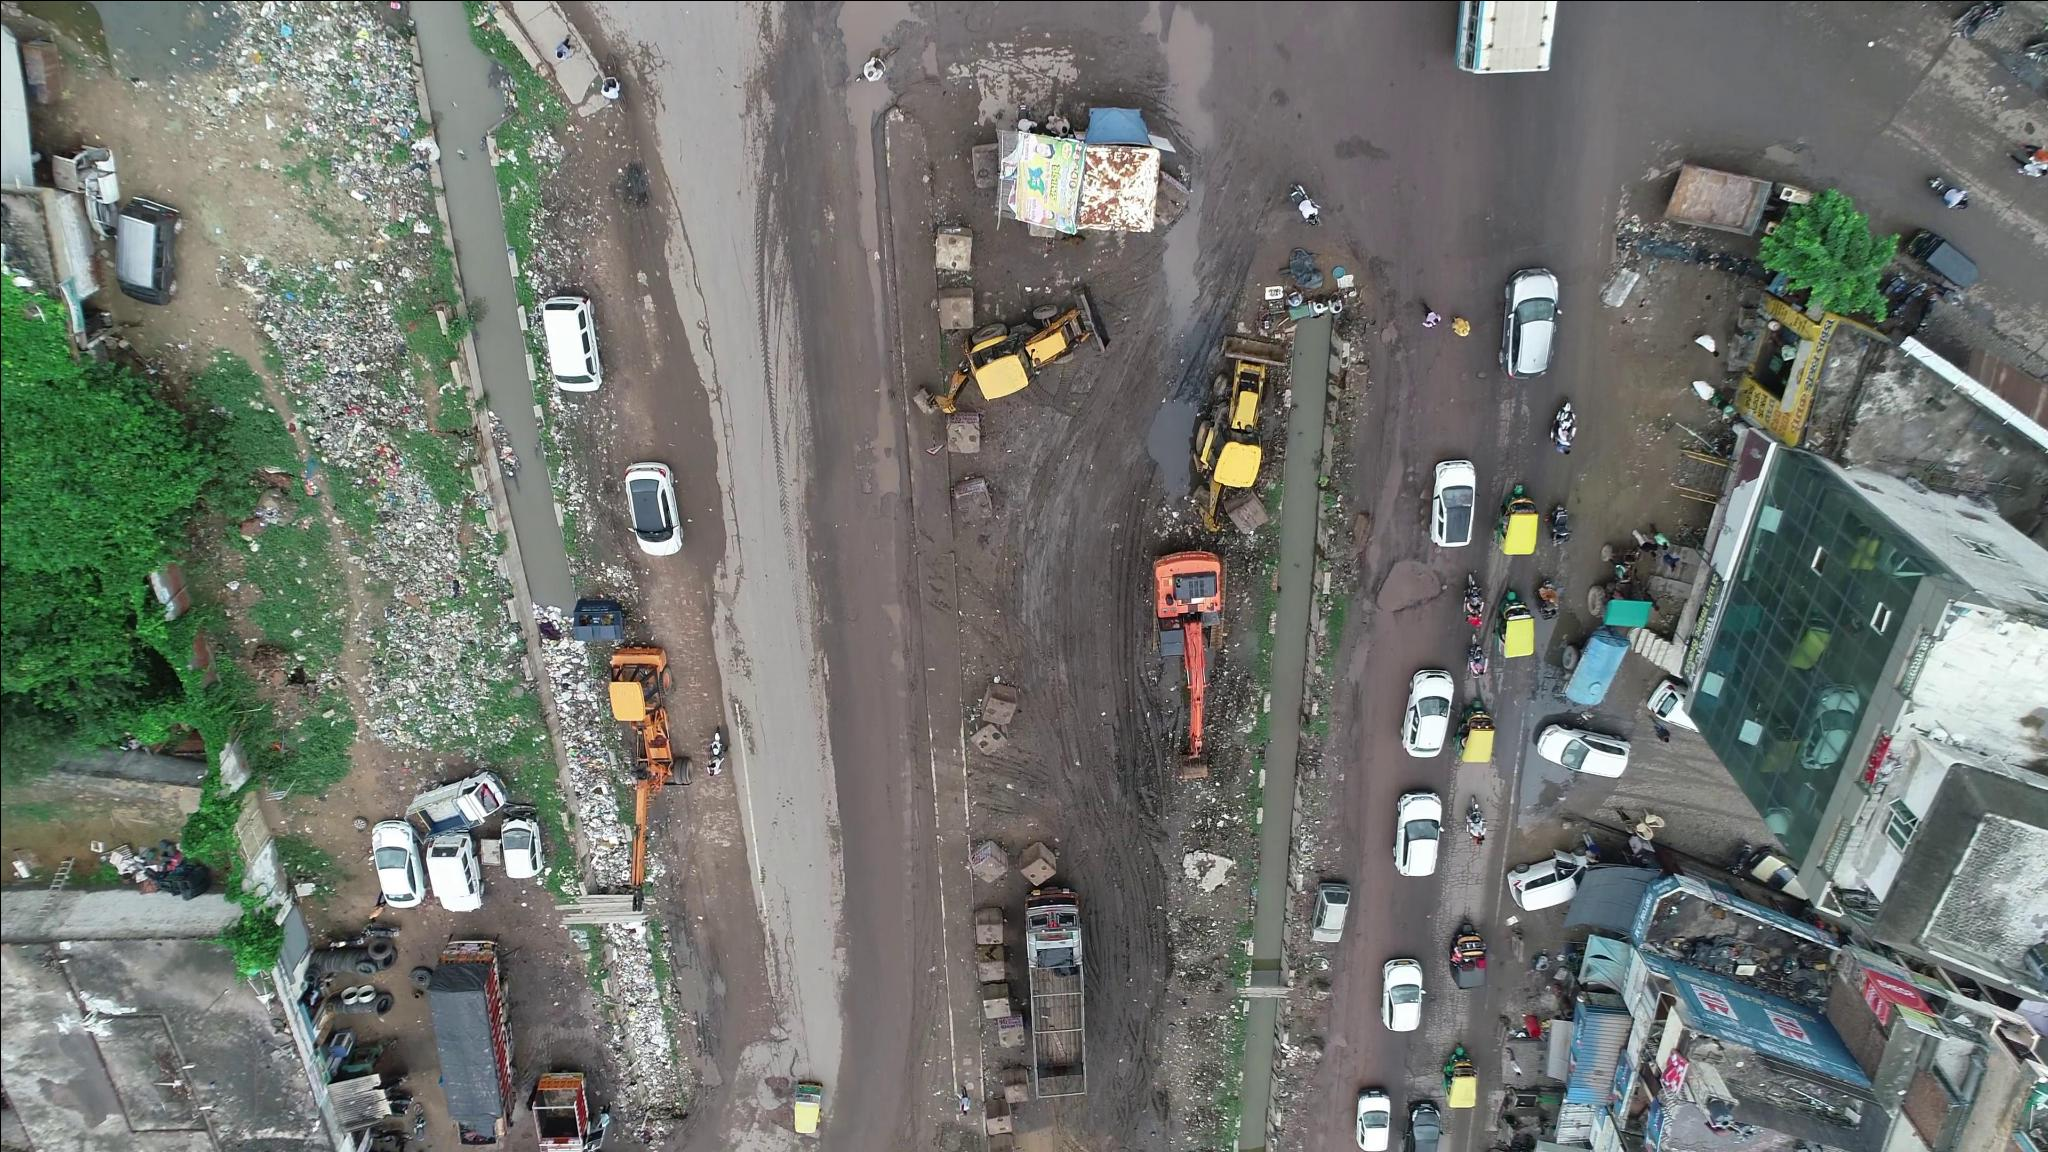Cracks: (679, 307, 761, 582)
Muddy_road: (844, 601, 916, 878), (858, 895, 909, 1118)
Potholes: (1369, 551, 1452, 619), (847, 430, 881, 499)
Road_side_garbage: (537, 634, 626, 872), (609, 924, 678, 1090)
